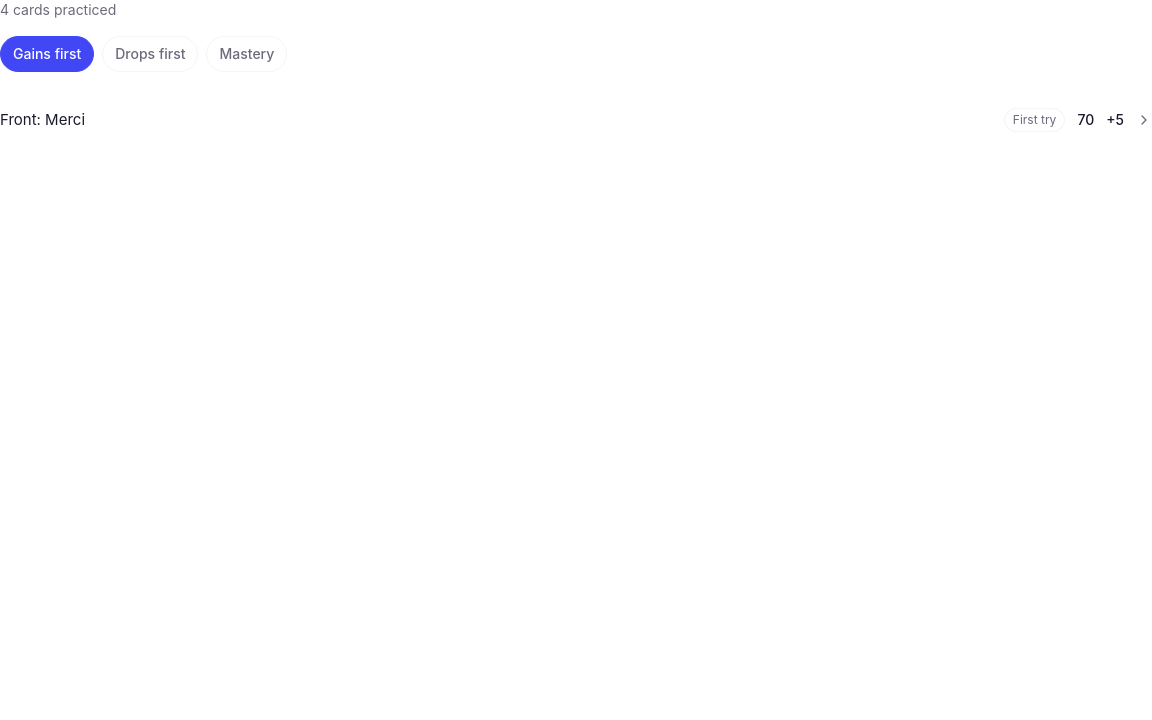
it: RunBreakdown › shows a removed field as "Removed field" with no value and no rating
Click the button "Front: Merci First try 70 +5": (43, 120) [0, 88, 1151, 152]
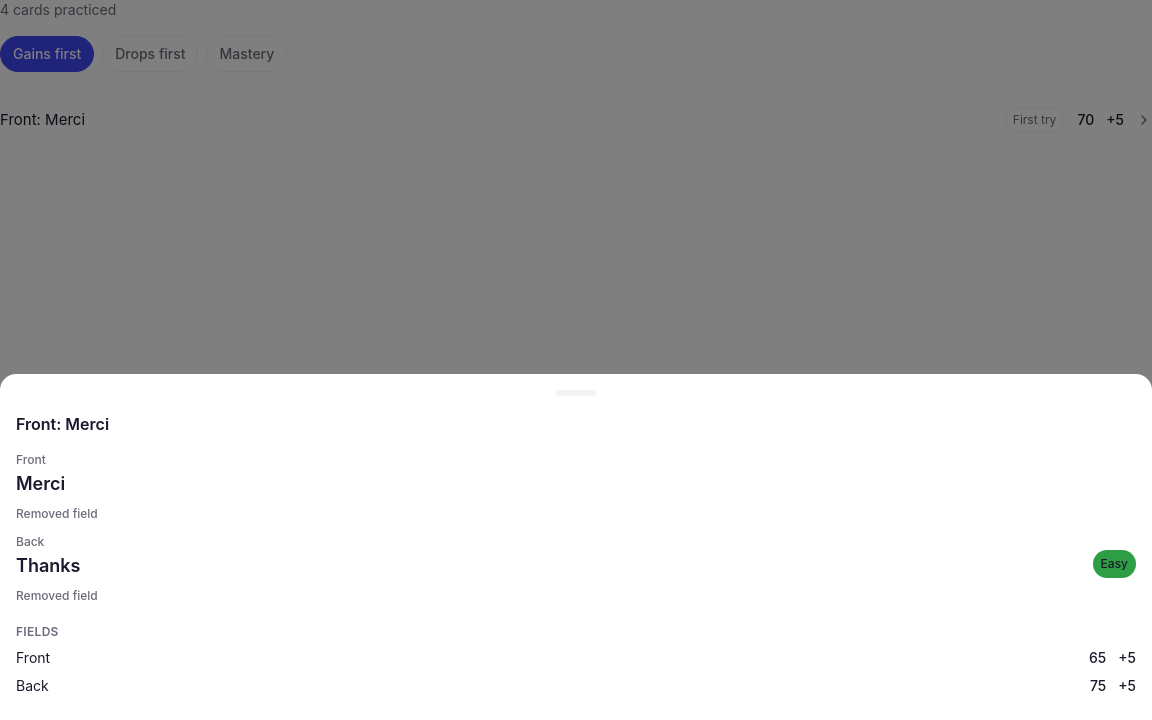
expect the text "Removed field" is shown 2 times: met, box [16, 506, 98, 521]; [16, 588, 98, 604]
expect the text "Easy" is shown: met, box [1093, 550, 1136, 578]
expect the text "Front" next to "65" is shown: met, box [16, 649, 50, 666]
